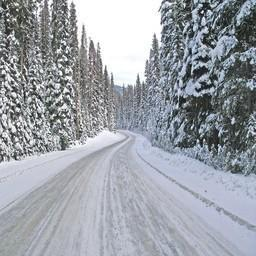Snow: (118, 130, 255, 255), (28, 135, 132, 253), (0, 130, 127, 213)
